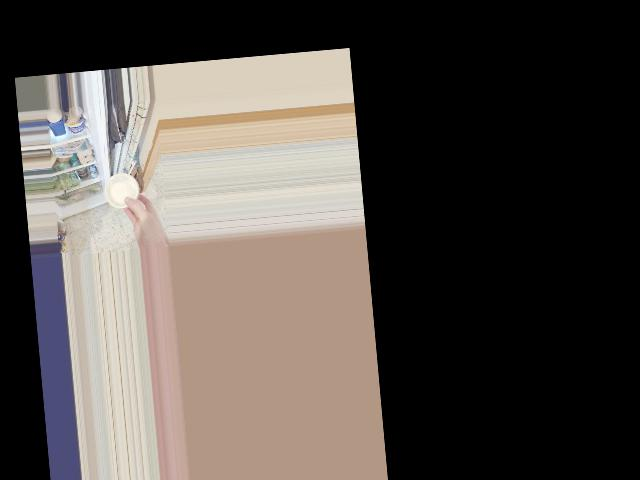cotage: (105, 171, 143, 209)
